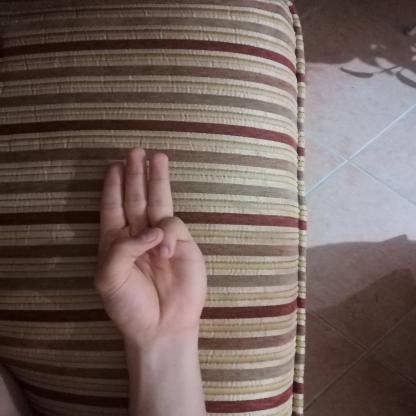THA: (76, 137, 222, 351)
